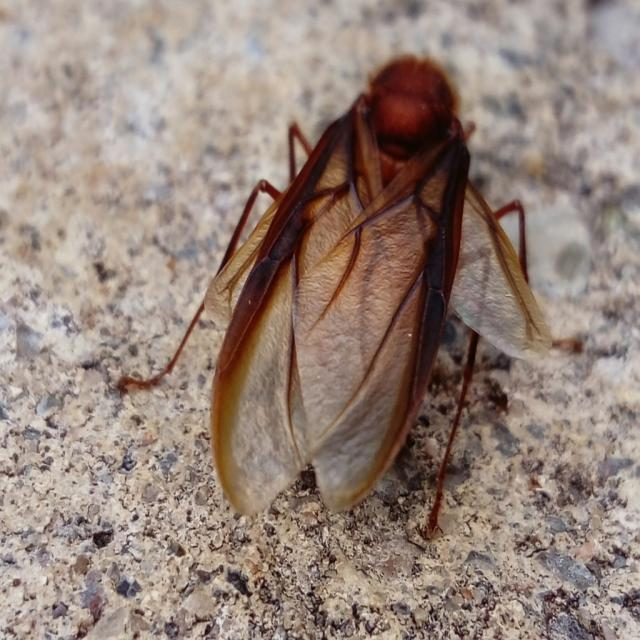Alive-Male-Alate: (120, 51, 584, 542)
